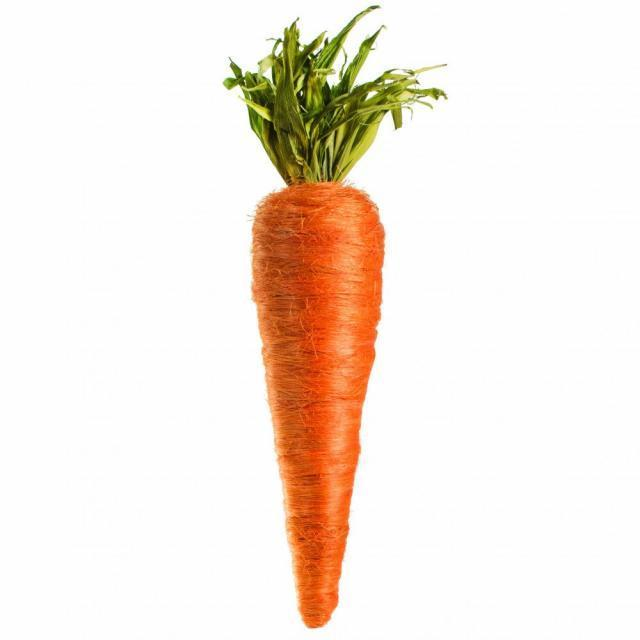carrot: (247, 179, 391, 630)
